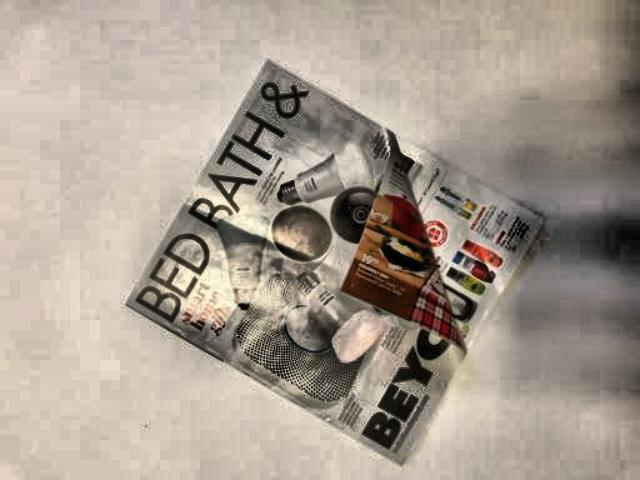Paper: (121, 39, 547, 475)
